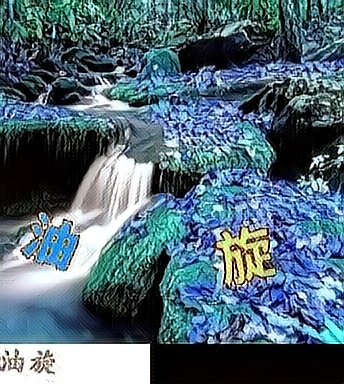D0FD: (214, 222, 277, 288)
D3CD: (19, 205, 82, 271)
